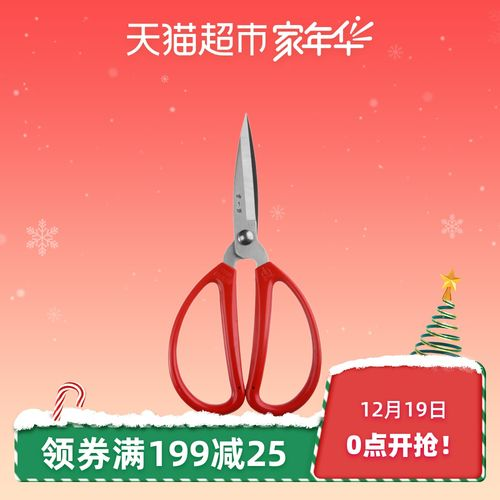scissor: (168, 112, 322, 413)
